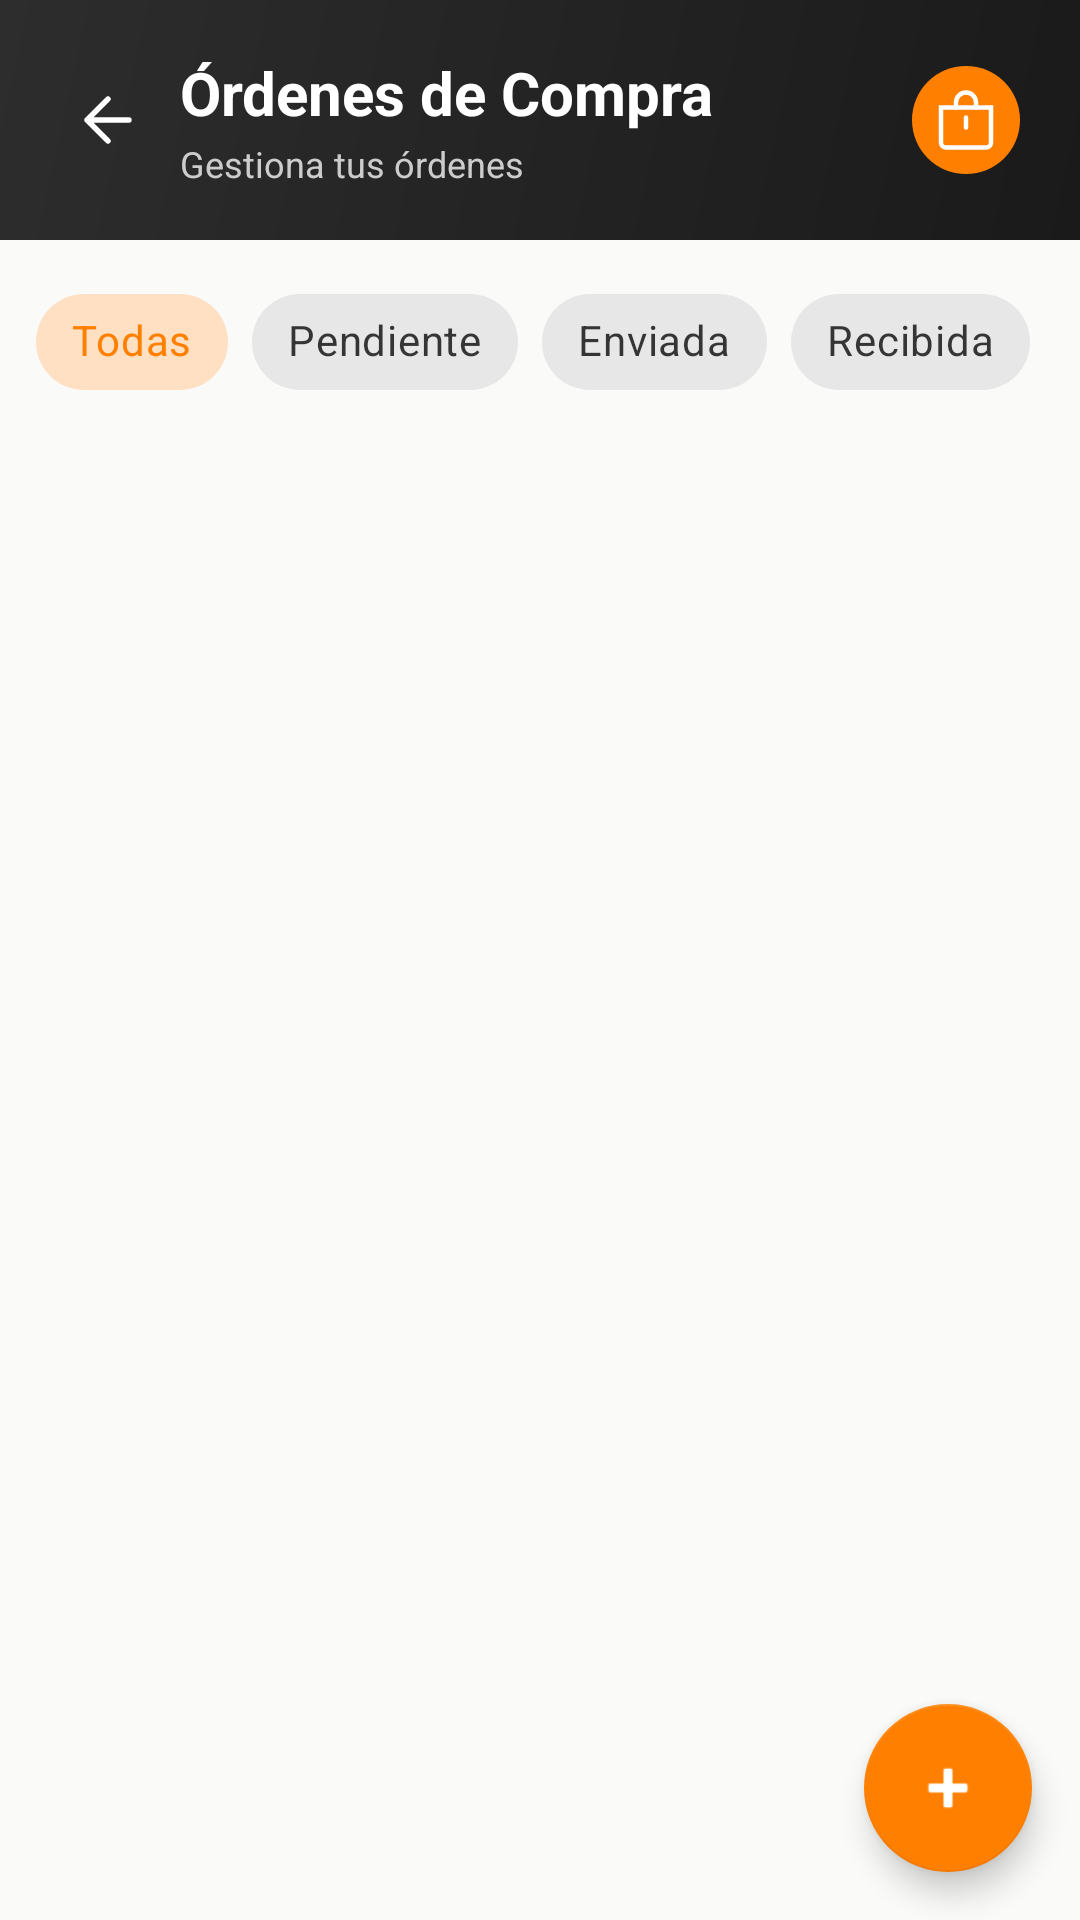

Where to tap for icons on this 1080 x 1920 app screen, as [x,y]:
Crear orden de compra: [948,1788]
Volver: [108,120]
